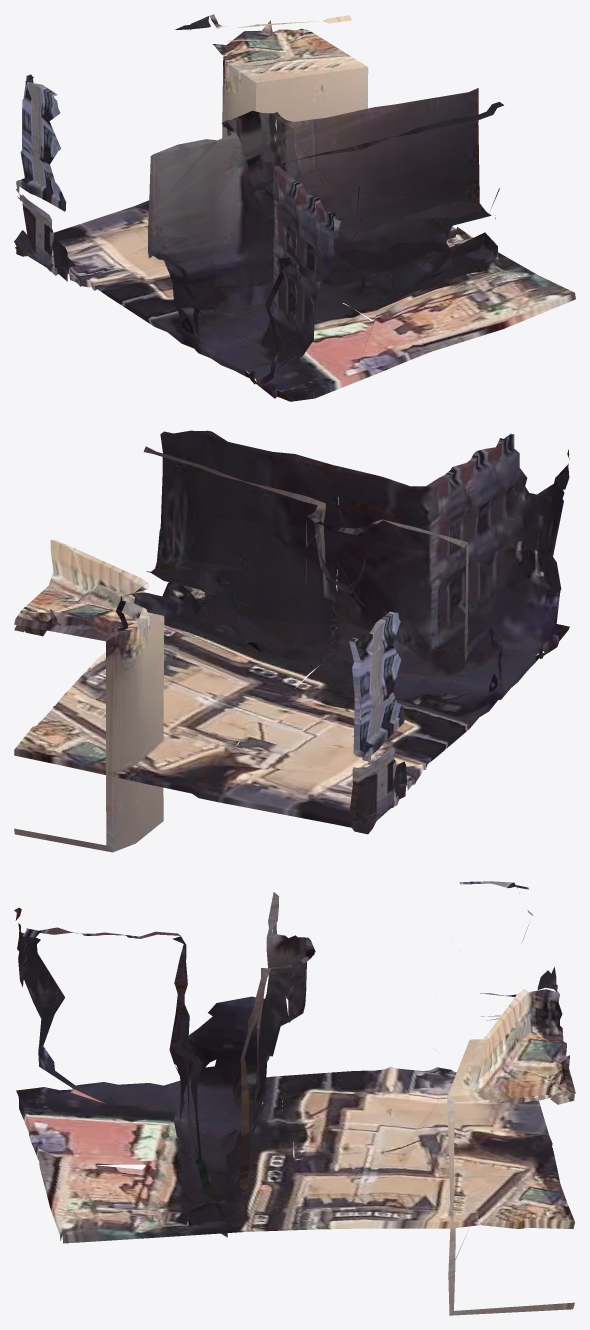
3 views of the same model, one above another, from view 1: azimuth 30°, elevation 25°; view 2: azimuth 150°, elevation 25°; view 3: azimuth 270°, elevation 25° (orthographic). The views are drawn at different scales.
Visible parts, largest first — view 1: Mesh_0; view 2: Mesh_0; view 3: Mesh_0.
Boxes of the visible parts, left/top/right/bottom form: Mesh_0: left=14, top=14, right=575, bottom=401; Mesh_0: left=14, top=430, right=569, bottom=852; Mesh_0: left=14, top=881, right=575, bottom=1315.
Bounding box in the file's own units: 33.34 × 21.82 × 41.62.
Materials: 2 (2 with a texture image).
